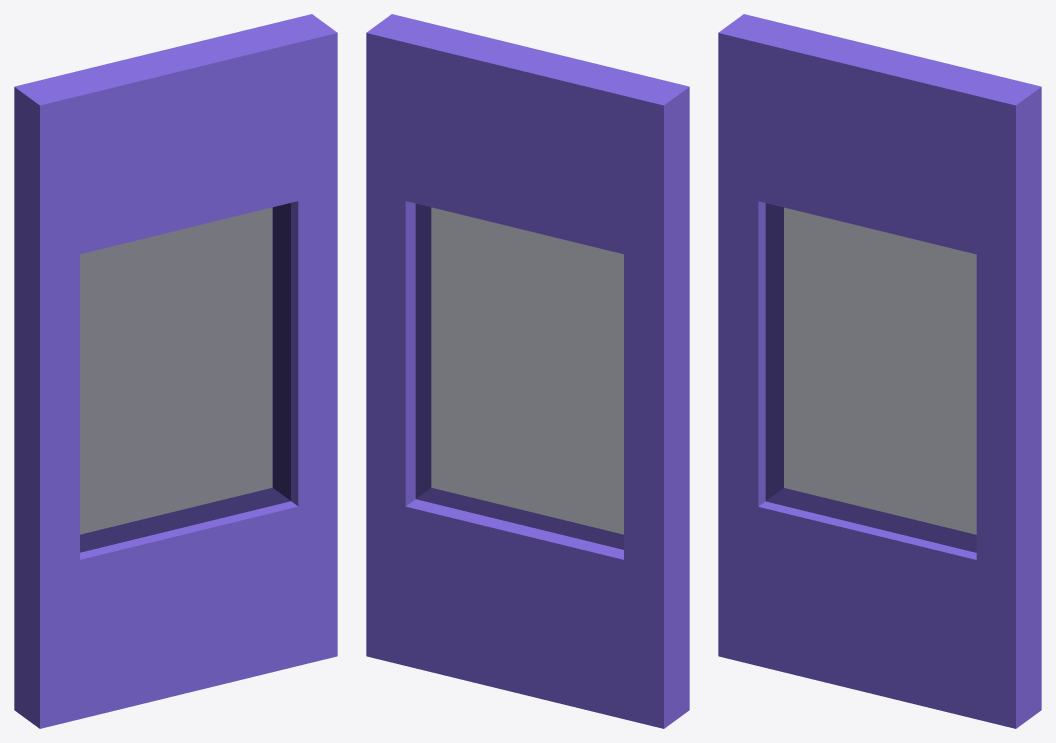
Rendered from PurpleWindow.glb.
The picture shows the model from 3 angles, left to right: view 1: azimuth 30°, elevation 25°; view 2: azimuth 150°, elevation 25°; view 3: azimuth 330°, elevation 25°; orthographic projection.
Parts seen in each view (by area): view 1: wall_purple_window; view 2: wall_purple_window; view 3: wall_purple_window.
Part boxes in pixels (box(x1,y1,x2,y2)): wall_purple_window: box(14, 14, 337, 728); wall_purple_window: box(366, 14, 689, 728); wall_purple_window: box(718, 14, 1041, 728).
Size of what is drawn, in the model's own units: 2 by 4 by 0.3.
2 materials, 2 textured.
